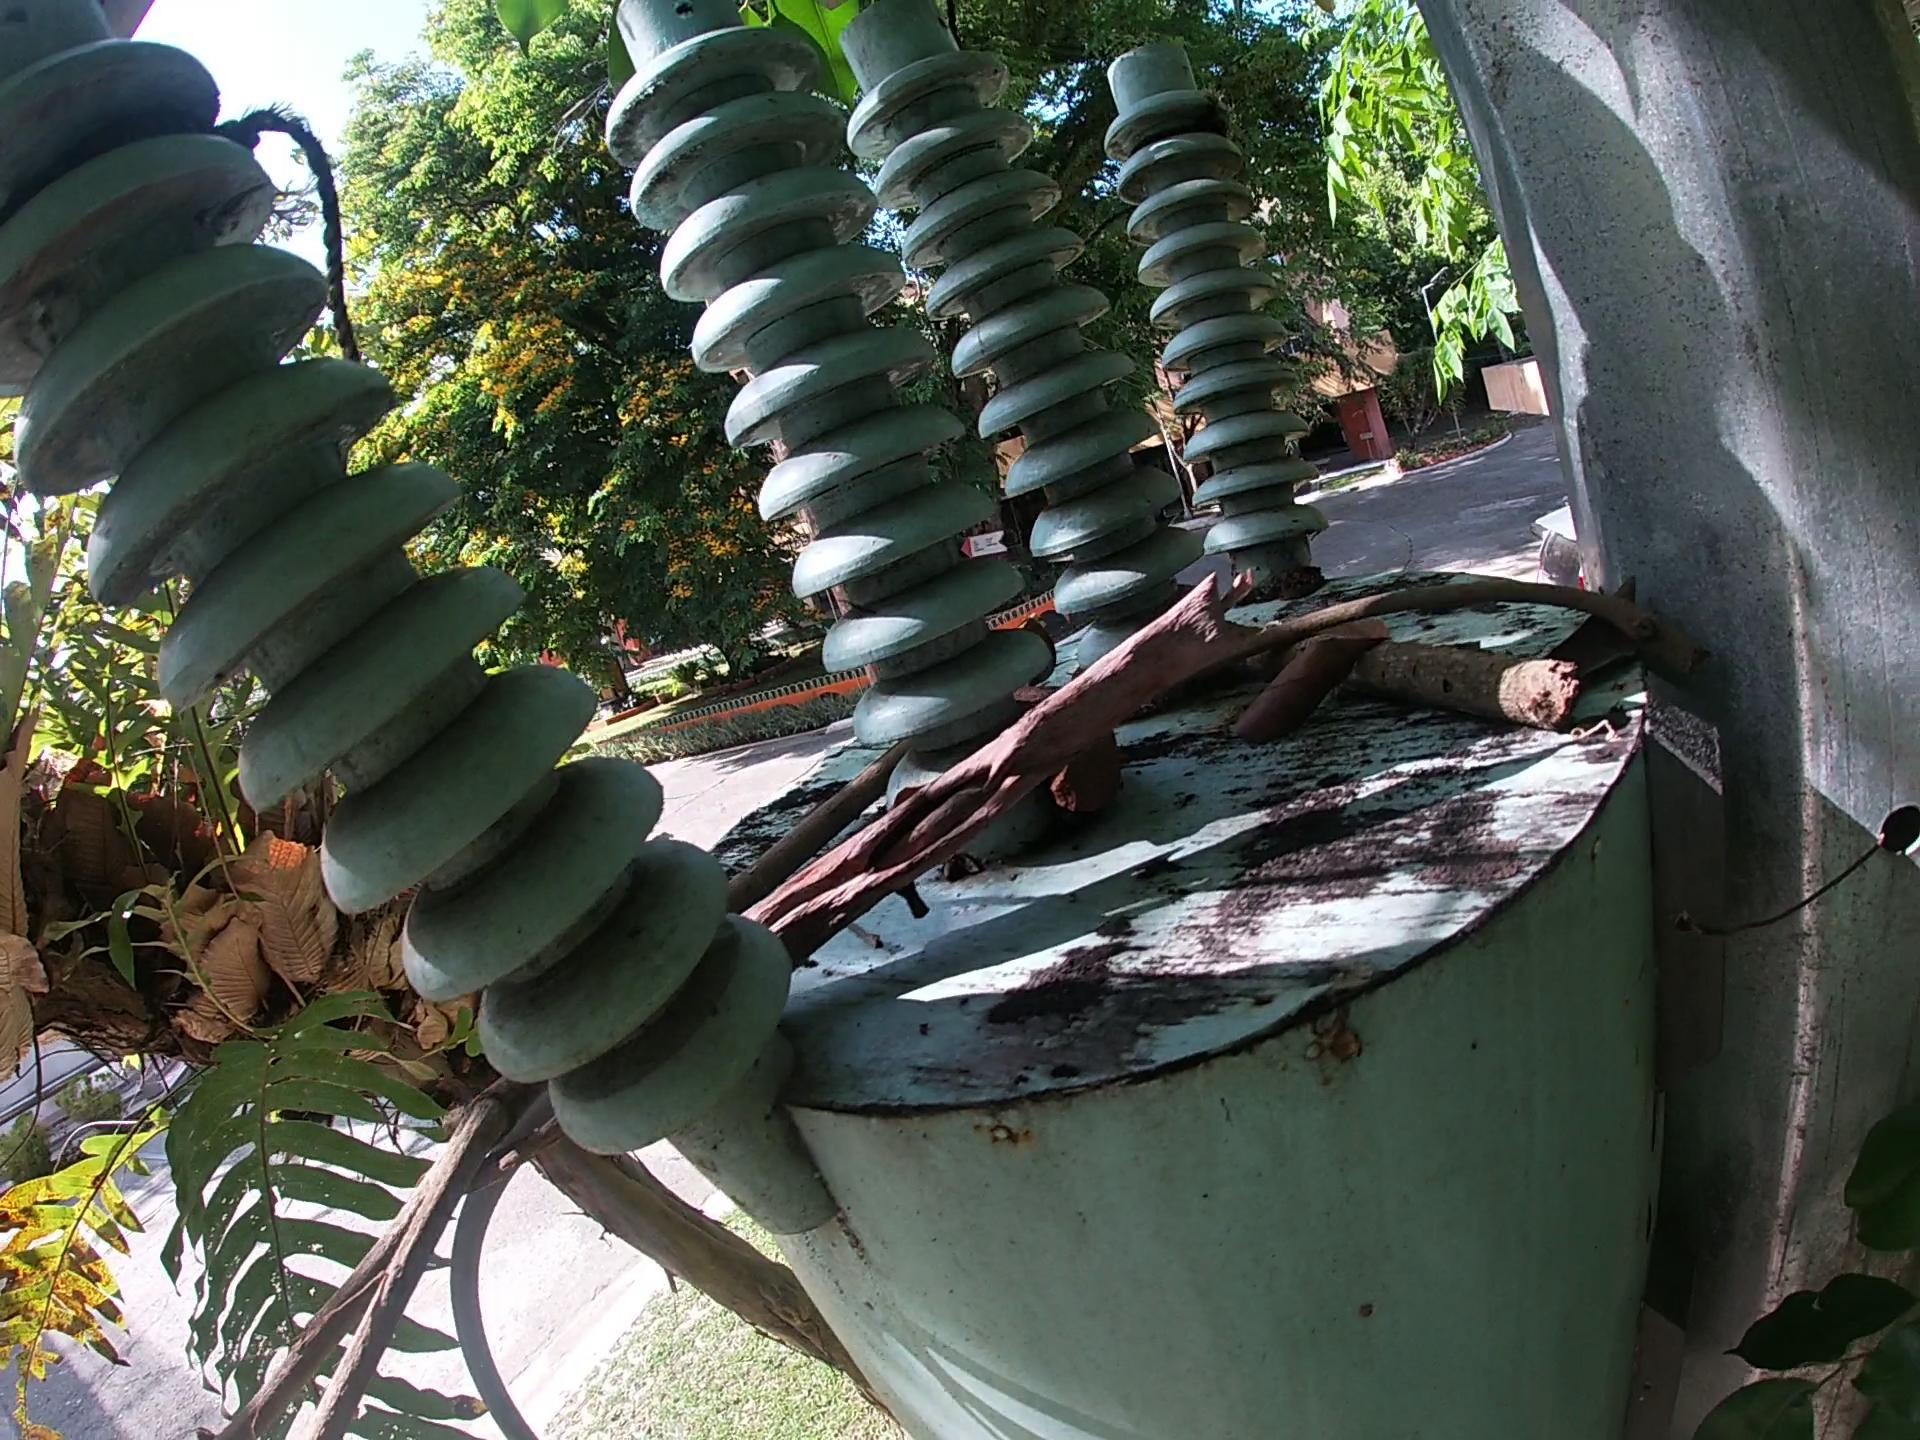leaf: (1217, 629, 1392, 752), (1528, 567, 1651, 688)
mahogany fruit: (1005, 679, 1137, 830)
tree branch: (757, 567, 1271, 968), (206, 1072, 547, 1440), (1228, 569, 1717, 694), (717, 731, 918, 926), (1235, 628, 1589, 738), (466, 1121, 581, 1195)
